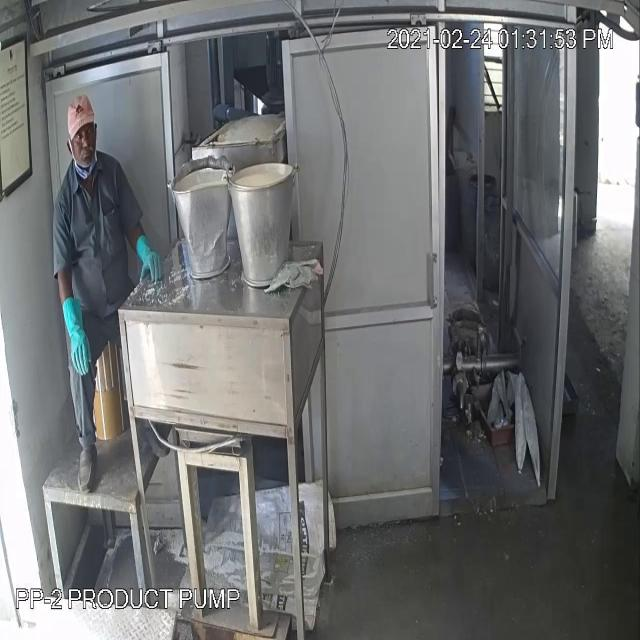no-helmet: (58, 88, 100, 147)
